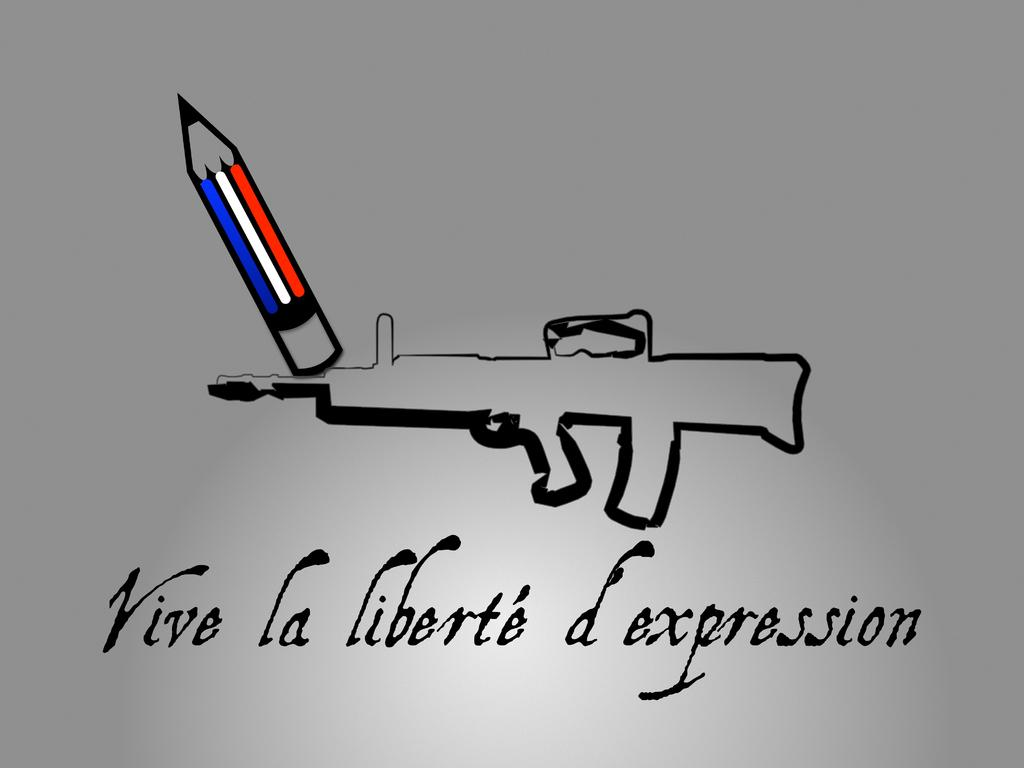Rifle: (222, 314, 806, 524)
